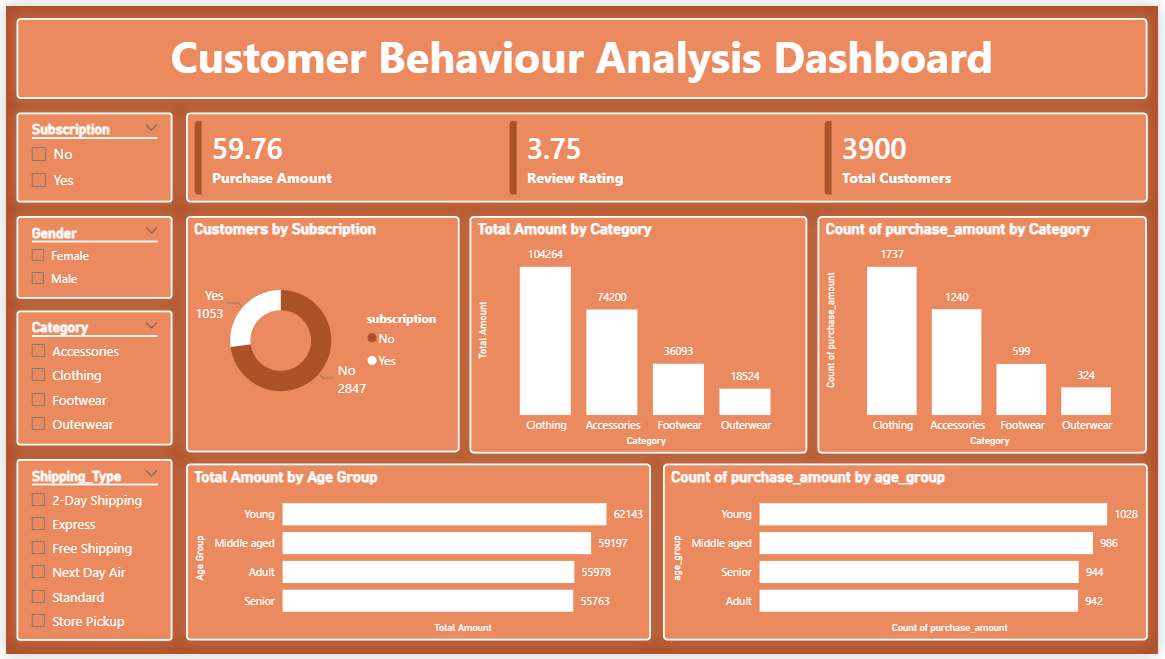

This screenshot's page, from the dashboard's own definition file:
{"tool":"powerbi","page":{"name":"Page 1","canvas":[1280,720],"ordinal":0},"visuals":[{"type":"cardVisual","fields":{"Data":["public customer.Average Purchase Amount","public customer.Average Review Rating","public customer.Number of Customers"]},"box":[200,118.3,1068.3,100],"z":0},{"type":"donutChart","title":"Customers by Subscription","fields":{"Category":["public customer.subscription_status"],"Y":["CountNonNull(public customer.customer_id)"]},"box":[200.4,233.8,303.8,262.5],"z":1000},{"type":"clusteredColumnChart","title":"Total Amount by Category","fields":{"Category":["public customer.category"],"Y":["Sum(public customer.purchase_amount)"]},"box":[514.2,232.9,375.1,264.1],"z":2000},{"type":"clusteredColumnChart","fields":{"Y":["CountNonNull(public customer.purchase_amount)"],"Category":["public customer.category"]},"box":[901.8,232.9,365.7,264.1],"z":3000},{"type":"slicer","fields":{"Values":["public customer.subscription_status"]},"box":[11.7,118.3,173.3,100],"z":4000},{"type":"slicer","fields":{"Values":["public customer.gender"]},"box":[11.7,233.3,173.3,91.7],"z":5000},{"type":"slicer","fields":{"Values":["public customer.category"]},"box":[11.7,338.3,173.3,150],"z":6000},{"type":"slicer","fields":{"Values":["public customer.shipping_type"]},"box":[11.7,503.3,173.3,201.7],"z":7000},{"type":"barChart","fields":{"Y":["Sum(public customer.purchase_amount)"],"Category":["public customer.age_group"]},"box":[200,508.3,516.7,196.7],"z":8000},{"type":"barChart","fields":{"Y":["CountNonNull(public customer.purchase_amount)"],"Category":["public customer.age_group"]},"box":[730,508.3,538.3,196.7],"z":9000},{"type":"textbox","box":[11.7,13.3,1256.7,90],"z":10000}]}

Visuals, with their boxes in screenshot pixels (x1, y1, x2, y2), scaled from the page's 1280x720 canvas onto the 1165x659 screenshot:
cardVisual - public customer.Average Purchase Amount x public customer.Average Review Rating: [182,108,1154,200]
"Customers by Subscription" donutChart: [182,214,459,454]
"Total Amount by Category" clusteredColumnChart: [468,213,809,455]
clusteredColumnChart - CountNonNull(public customer.purchase_amount) x public customer.category: [821,213,1154,455]
slicer - public customer.subscription_status: [11,108,168,200]
slicer - public customer.gender: [11,214,168,297]
slicer - public customer.category: [11,310,168,447]
slicer - public customer.shipping_type: [11,461,168,645]
barChart - Sum(public customer.purchase_amount) x public customer.age_group: [182,465,652,645]
barChart - CountNonNull(public customer.purchase_amount) x public customer.age_group: [664,465,1154,645]
textbox: [11,12,1154,95]
